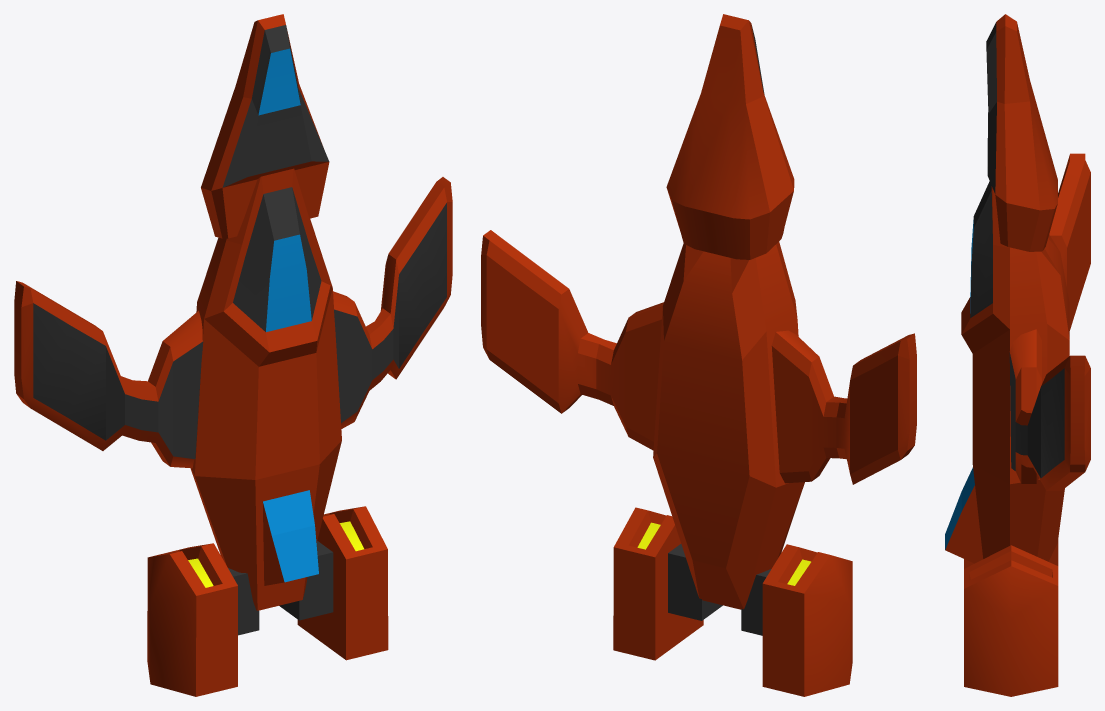
The model's file is Valor.fbx.
3 renders of one model, left to right at view 1: azimuth 30°, elevation 25°; view 2: azimuth 150°, elevation 25°; view 3: azimuth 270°, elevation 25°, orthographic. The views are drawn at different scales.
Parts seen in each view (by area): view 1: Ship2; view 2: Ship2; view 3: Ship2.
Part boxes in pixels (x1,y1,x2,y2): Ship2: (14,14,452,696); Ship2: (481,14,916,696); Ship2: (945,14,1090,696).
Size of the model in its own units: 52.47 by 74.49 by 15.83.
